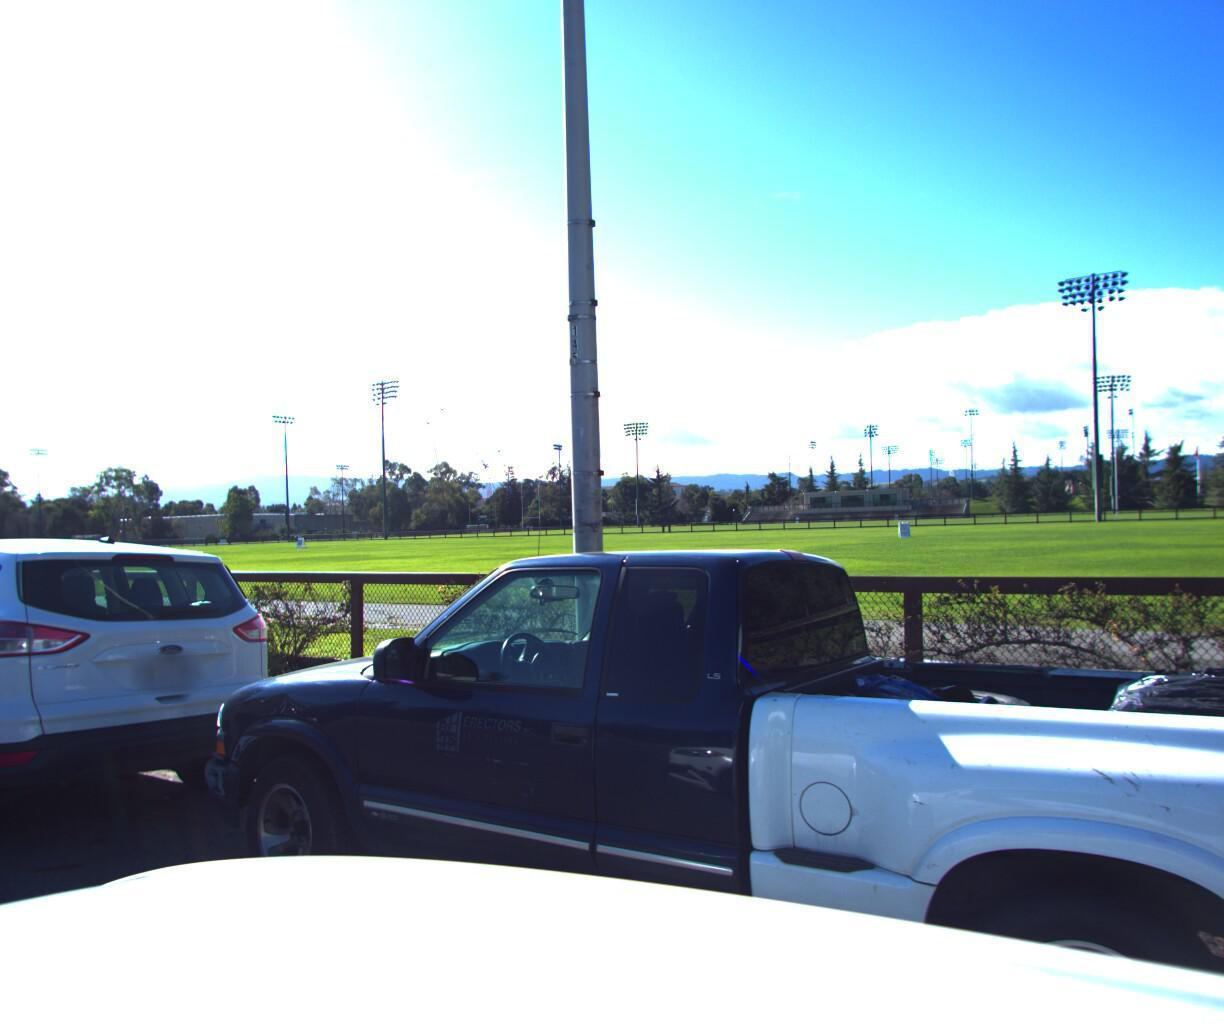car: (123, 522, 1224, 1024), (0, 524, 305, 920)
